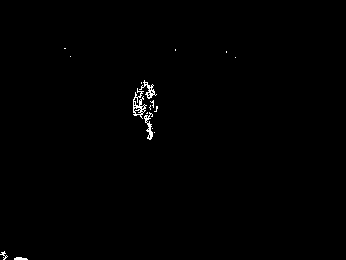person: (131, 77, 158, 141)
